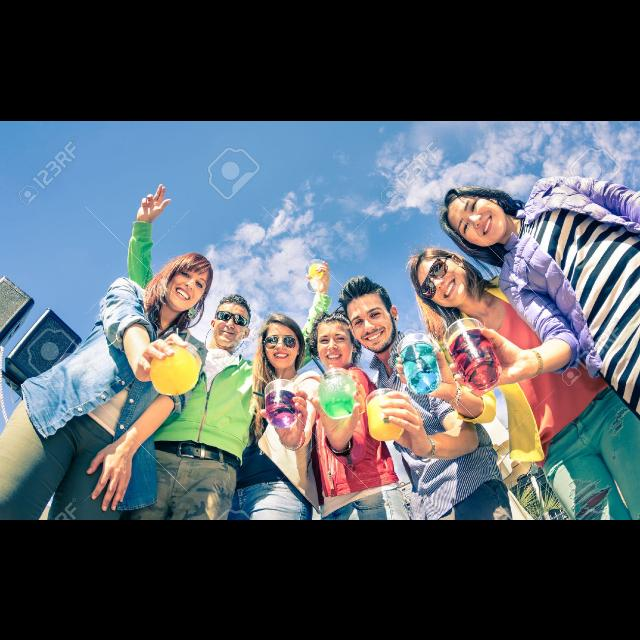head: (345, 282, 401, 354), (410, 247, 470, 310), (444, 190, 508, 248), (161, 252, 213, 312), (314, 312, 358, 370), (260, 315, 304, 369), (211, 298, 251, 350)
